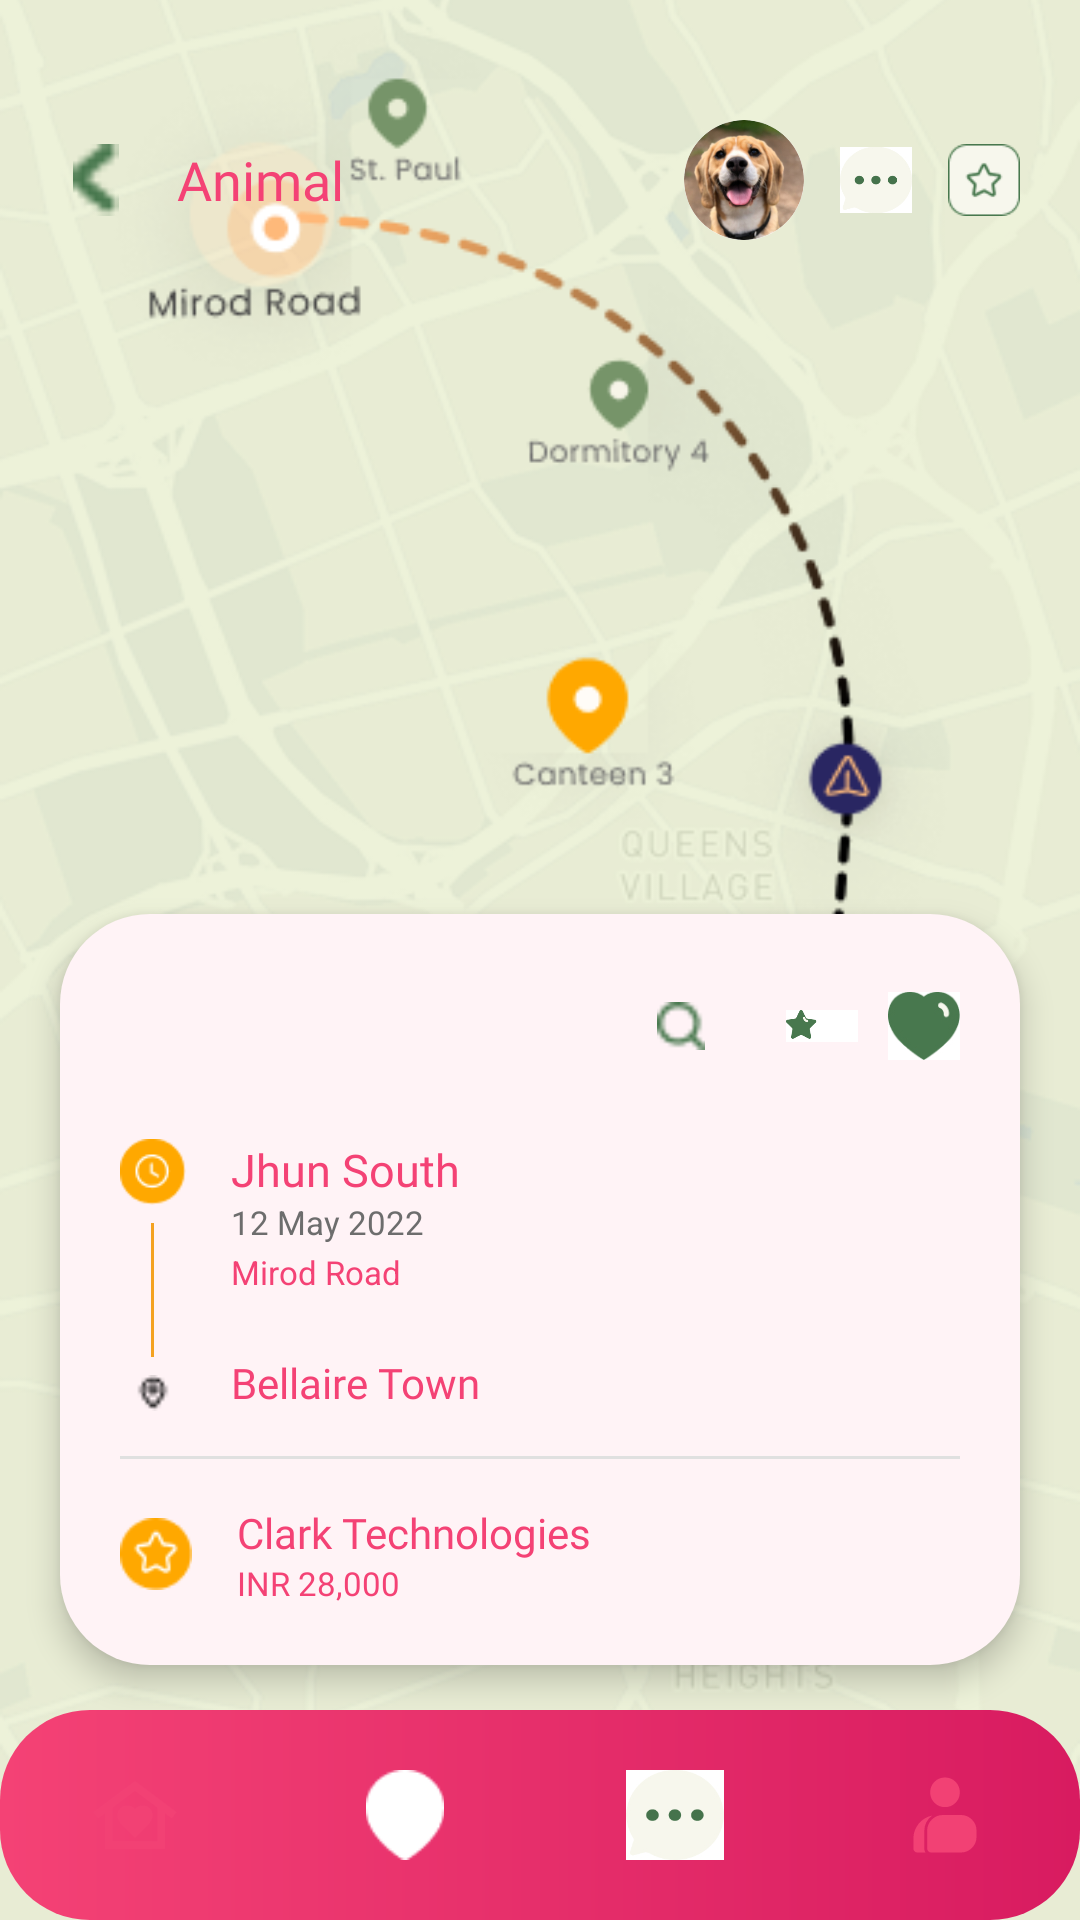

Icons on this 1080w x 1920h Android screen, each with the point to tap as (x,y):
back: (96,180)
clock: (153,1172)
heart: (924,1026)
search: (681,1026)
